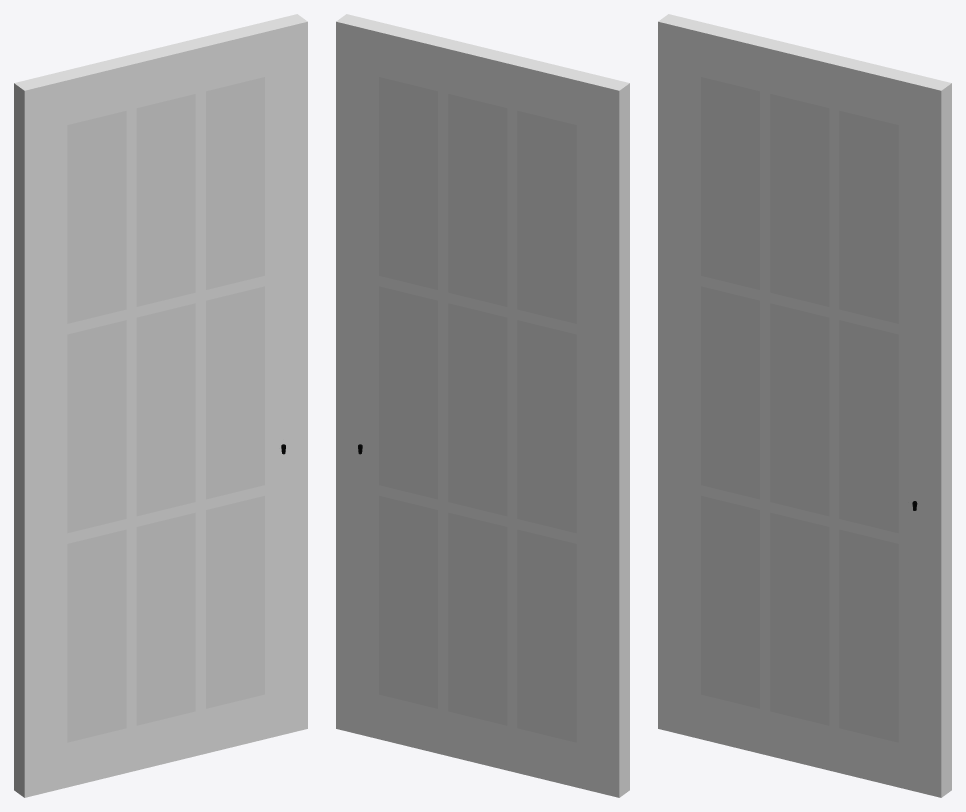
File: Door14.fbx
3 renders of one model, left to right at view 1: azimuth 30°, elevation 25°; view 2: azimuth 150°, elevation 25°; view 3: azimuth 330°, elevation 25°, orthographic.
Visible parts, largest first — view 1: Door14; view 2: Door14; view 3: Door14.
Boxes of the visible parts, x1,y1,x2,y2 form: Door14: (14,14,307,797); Door14: (336,14,629,797); Door14: (658,14,951,797).
Size of the model in its own units: 78 by 186 by 6.71.
